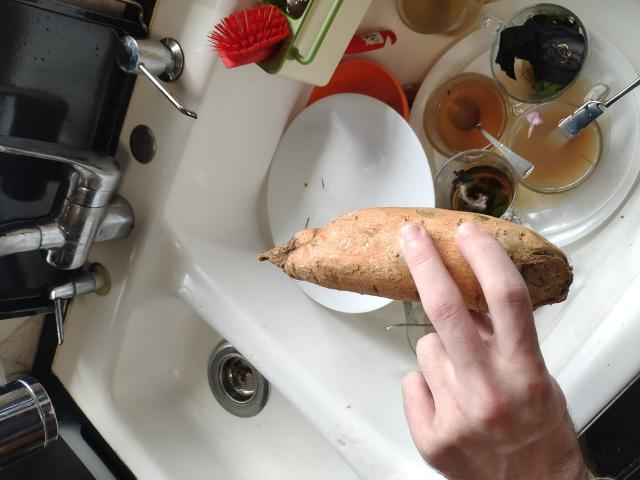sweet_potato: (244, 209, 582, 324)
